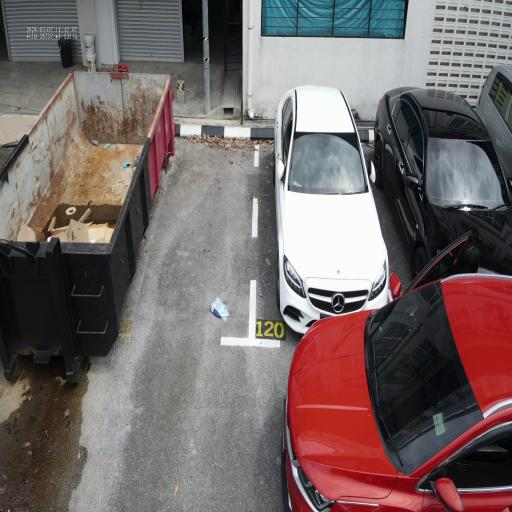Empty: (119, 128, 262, 351)
Illegal: (278, 256, 512, 512)
Occupied: (247, 118, 406, 363)
